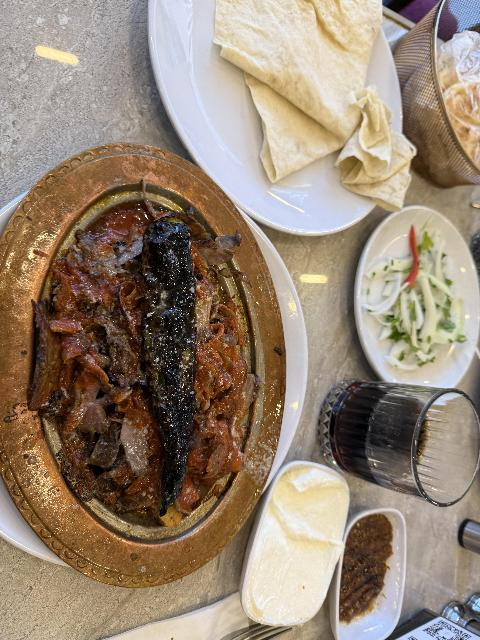Cam: (333, 387, 480, 491)
Organik: (264, 4, 379, 147), (140, 224, 197, 508), (280, 510, 318, 592), (32, 310, 64, 404), (345, 548, 384, 598), (408, 233, 421, 269)
